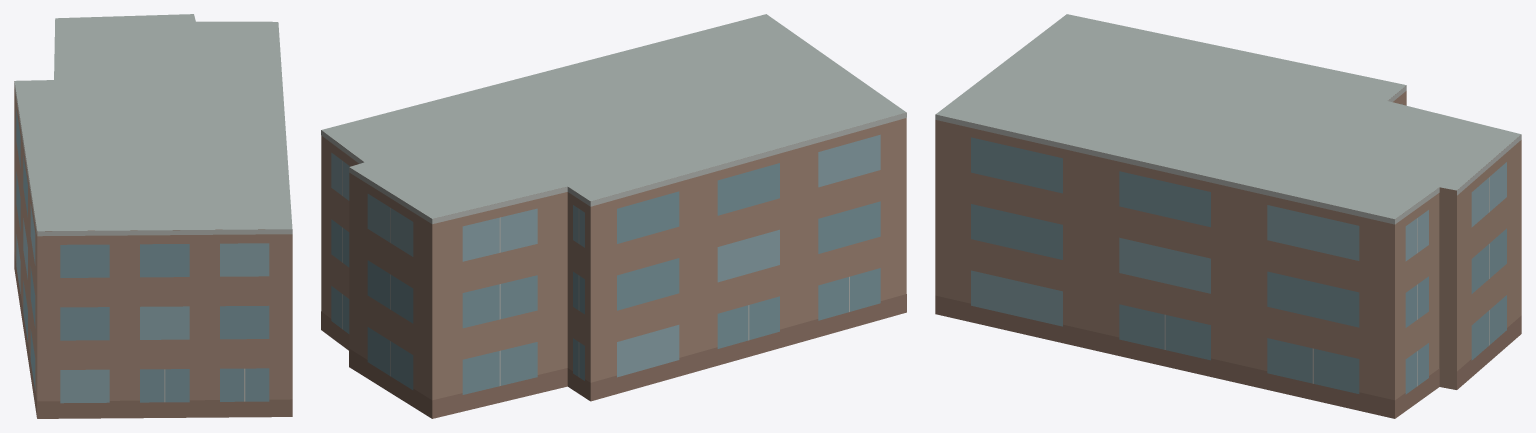
The model's file is survey-upis-32842790.glb.
3 views of the same model, side by side, from view 1: azimuth 30°, elevation 25°; view 2: azimuth 150°, elevation 25°; view 3: azimuth 270°, elevation 25° (orthographic). The views are drawn at different scales.
Parts seen in each view (by area): view 1: survey-upis-32842790.tmp; view 2: survey-upis-32842790.tmp; view 3: survey-upis-32842790.tmp.
Boxes of the visible parts, bbox=[...] form: survey-upis-32842790.tmp: bbox=[14, 14, 292, 418]; survey-upis-32842790.tmp: bbox=[321, 14, 906, 418]; survey-upis-32842790.tmp: bbox=[935, 14, 1521, 418].
Size of the model in its own units: 20.18 by 9.15 by 24.35.
